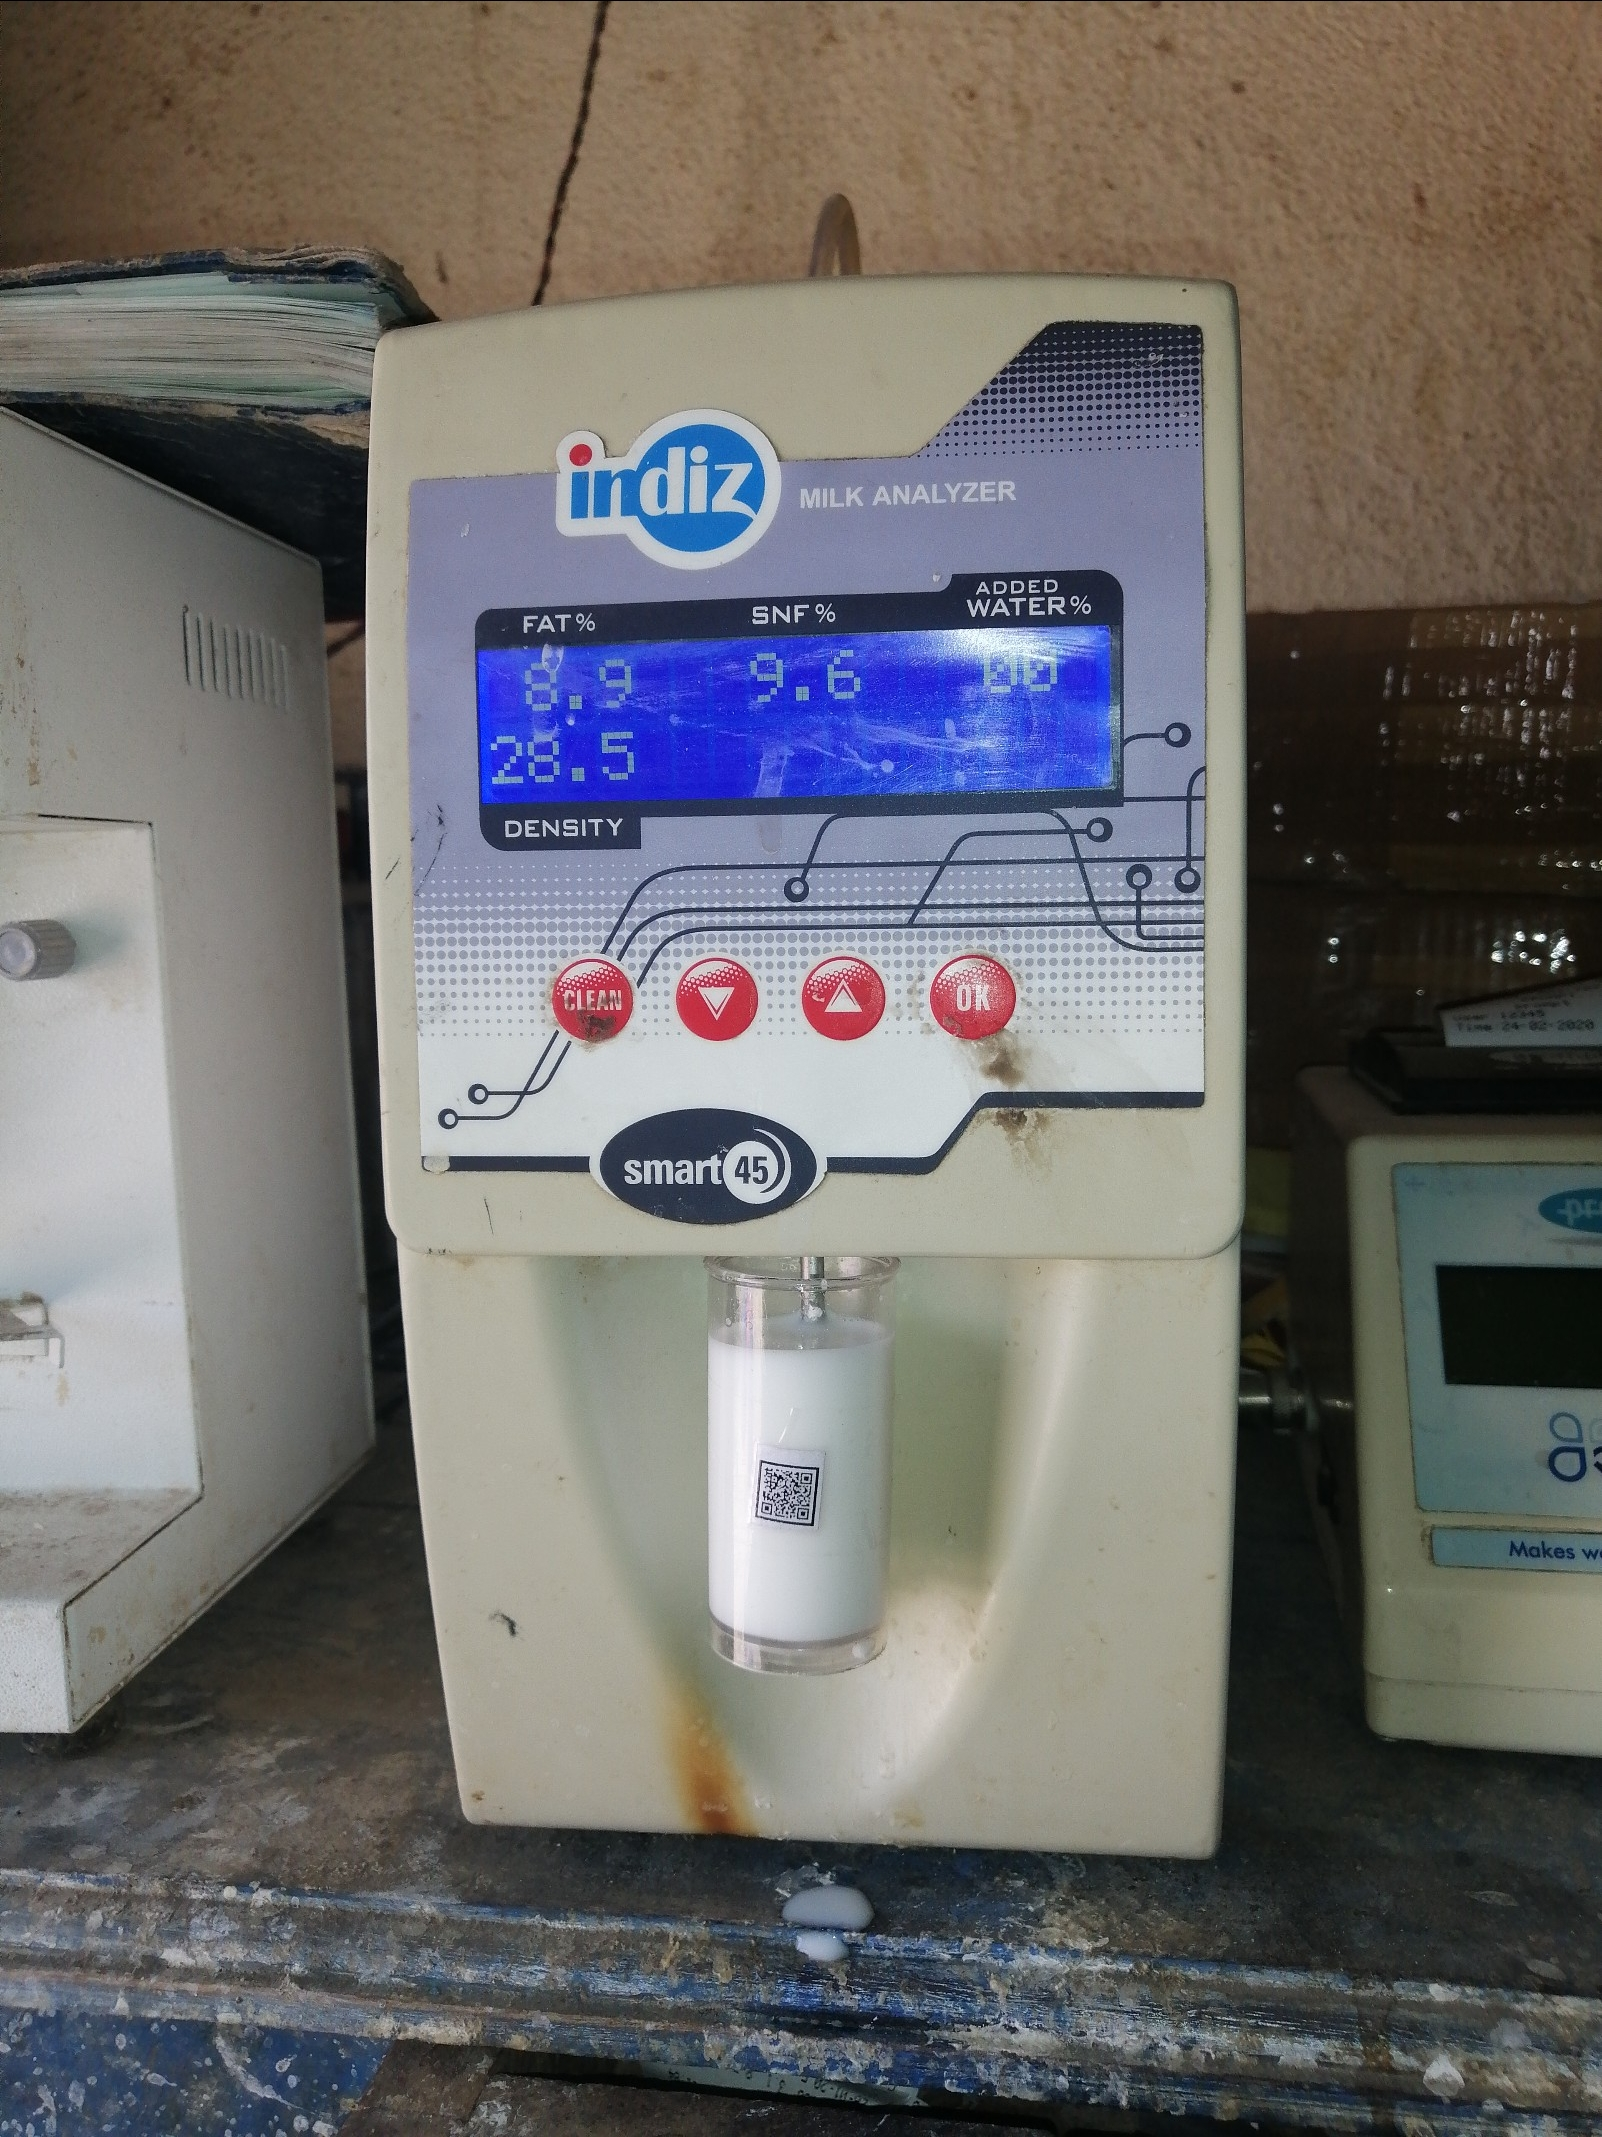lcd: (463, 606, 1149, 835)
qr: (735, 1445, 868, 1568)
